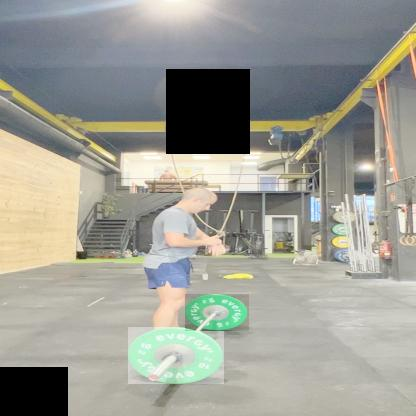barbell: (129, 328, 225, 385), (187, 295, 251, 332)
